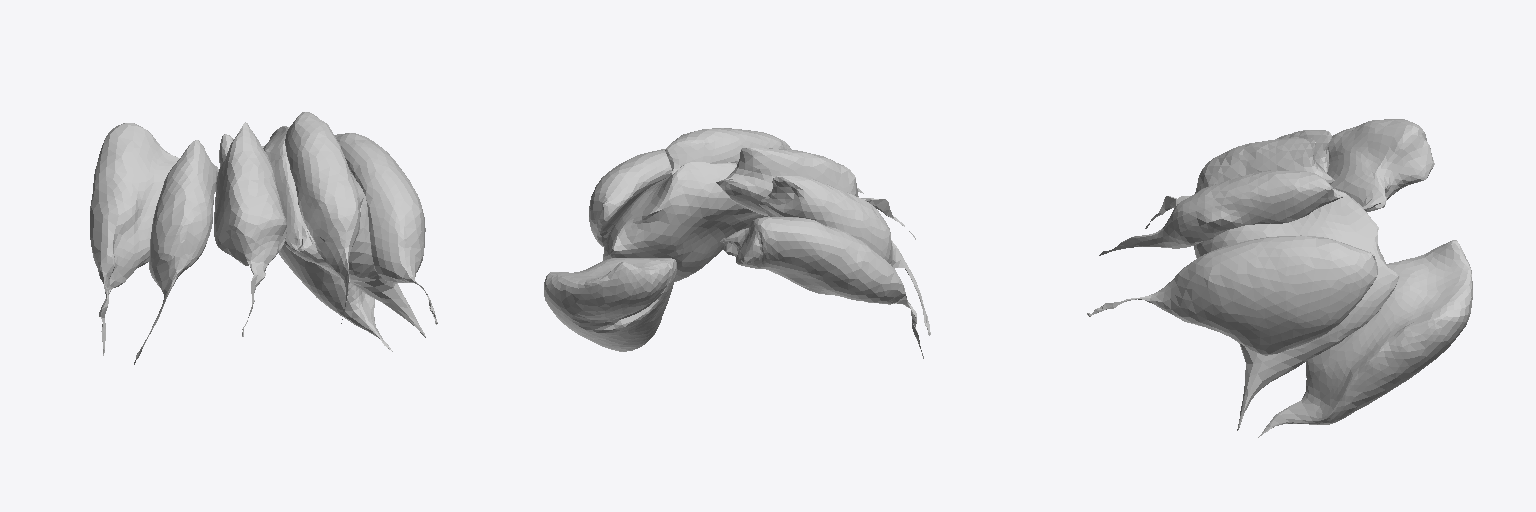
Rendered from rand_7_muscle.obj.
3 renders of one model, left to right at view 1: azimuth 30°, elevation 25°; view 2: azimuth 150°, elevation 25°; view 3: azimuth 270°, elevation 25°, orthographic.
Size of the model in its own units: 75.42 by 55.95 by 81.96.